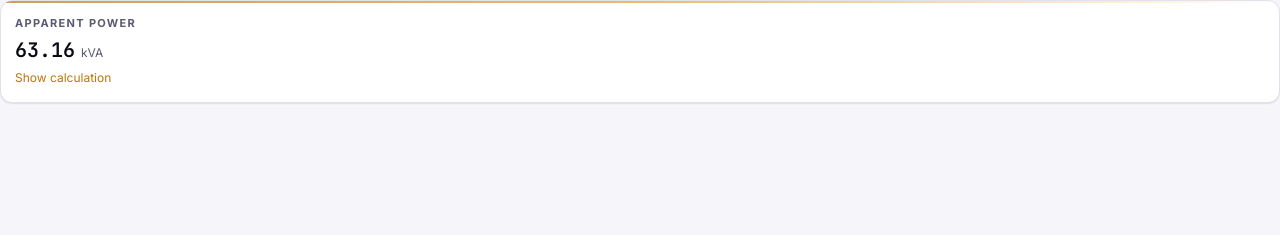
Test: MetricCard › shows the engine value and reveals the derivation
expect the text "63.16" is shown: met, box [15,36,75,64]
Click the button "Show calculation" at [63, 78], box [15,70,111,86]
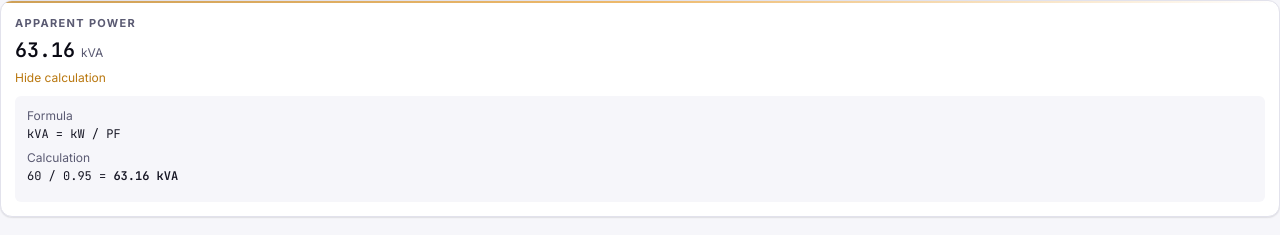
expect the text "kVA = kW / PF" is shown: met, box [27,126,121,142]
expect the text "60 / 0.95 = 63.16 kVA" is shown: met, box [27,168,178,184]
